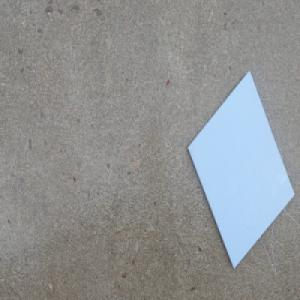PaintChip: (186, 69, 295, 271)
